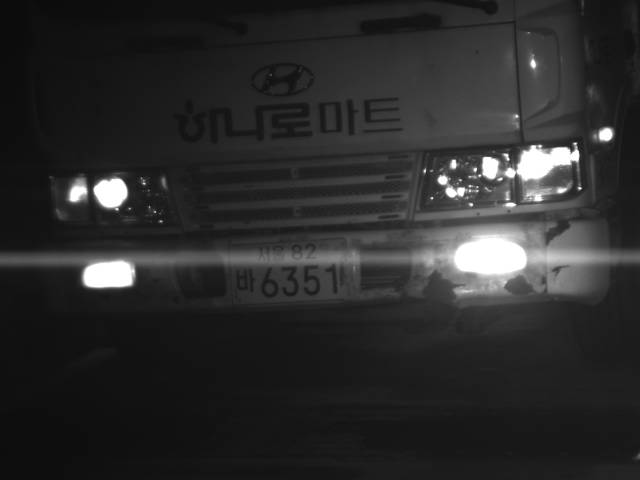car: (7, 1, 639, 362)
plate: (223, 236, 361, 309)
